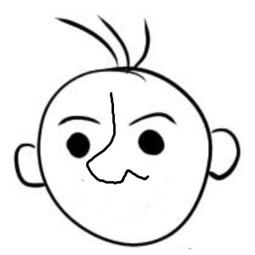ear: (205, 123, 246, 183), (7, 140, 44, 190)
eye: (136, 127, 168, 160), (64, 131, 90, 158)
eyebrow: (122, 107, 179, 126), (53, 112, 101, 127)
large_nose: (84, 89, 150, 185)
